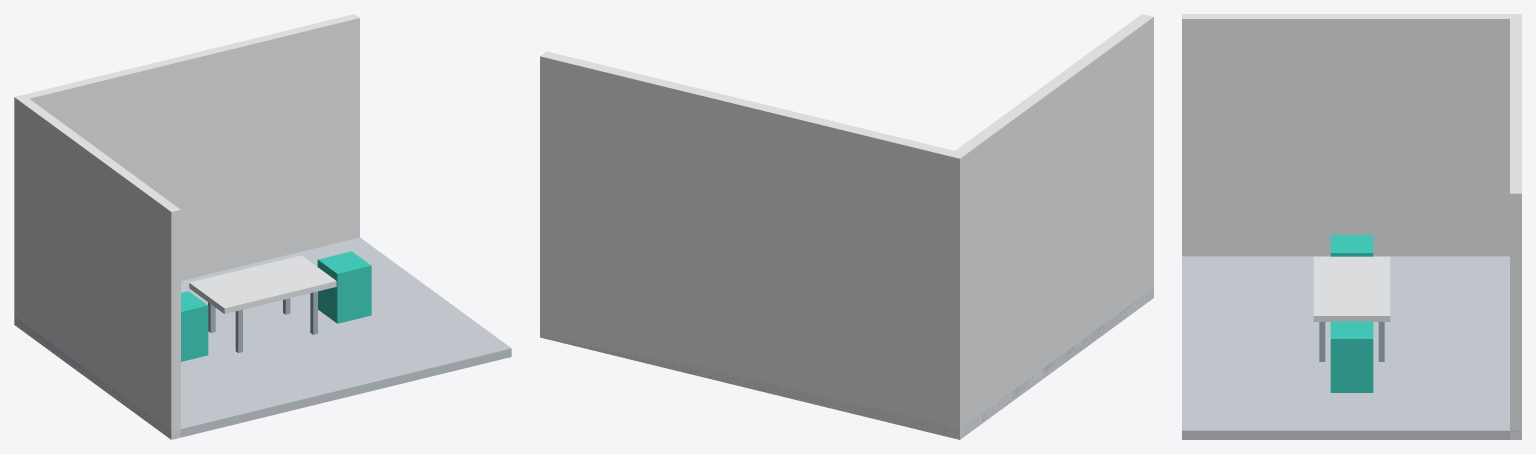
The picture shows the model from 3 angles, left to right: view 1: azimuth 30°, elevation 25°; view 2: azimuth 150°, elevation 25°; view 3: azimuth 270°, elevation 25°; orthographic projection. The views are drawn at different scales.
Visible parts, largest first — view 1: Exhibition Booth Concept; view 2: Exhibition Booth Concept; view 3: Exhibition Booth Concept.
Boxes of the visible parts, bbox=[...] form: Exhibition Booth Concept: bbox=[14, 14, 511, 439]; Exhibition Booth Concept: bbox=[540, 14, 1153, 439]; Exhibition Booth Concept: bbox=[1182, 14, 1521, 439].
Size of the model in its own units: 5 by 3.2 by 4.
